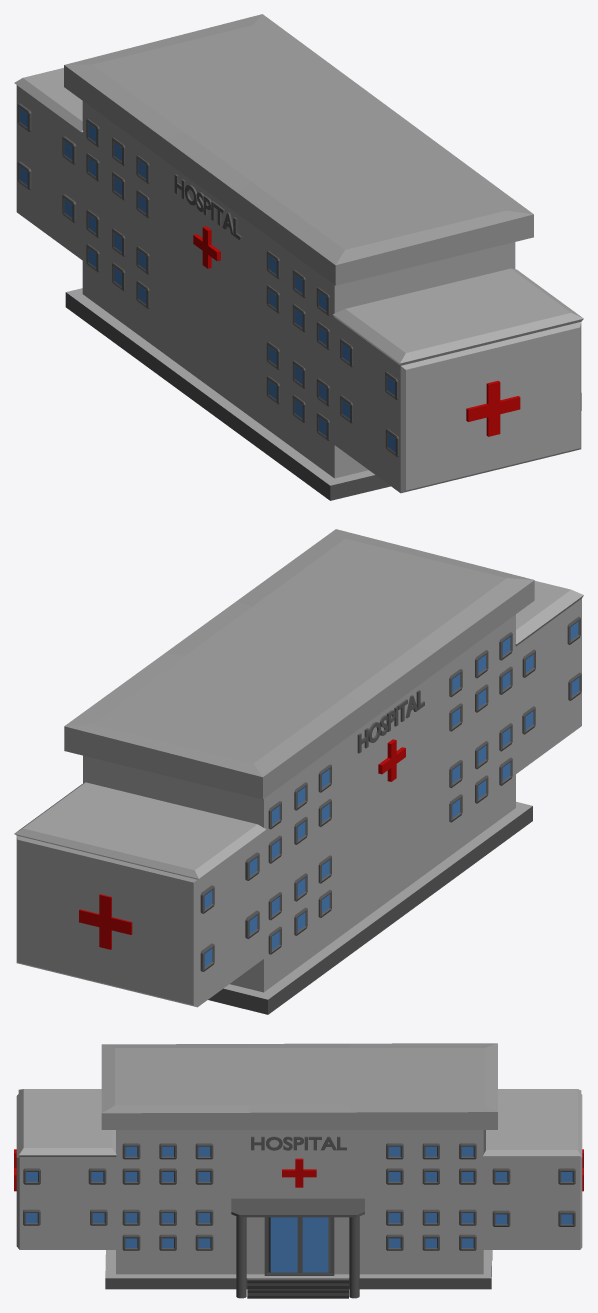
The model's file is research_hospital_01.glb.
3 views of the same model, one above another, from view 1: azimuth 30°, elevation 25°; view 2: azimuth 150°, elevation 25°; view 3: azimuth 270°, elevation 25° (orthographic). The views are drawn at different scales.
Visible parts, largest first — view 1: HOSPITAL_Material.010_0; view 2: HOSPITAL_Material.010_0; view 3: HOSPITAL_Material.010_0.
Part boxes in pixels (left/top/right/bottom): HOSPITAL_Material.010_0: left=14, top=14, right=583, bottom=500; HOSPITAL_Material.010_0: left=14, top=529, right=583, bottom=1014; HOSPITAL_Material.010_0: left=14, top=1043, right=583, bottom=1298.
Size of the model in its own units: 3.09 by 3.01 by 8.81.
Materials: 1 (1 with a texture image).
